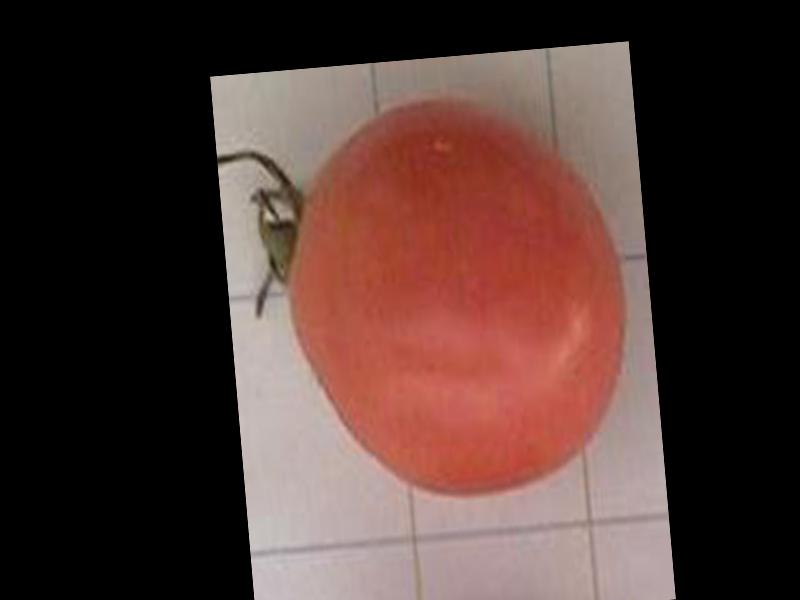Tomato: (273, 85, 640, 509)
